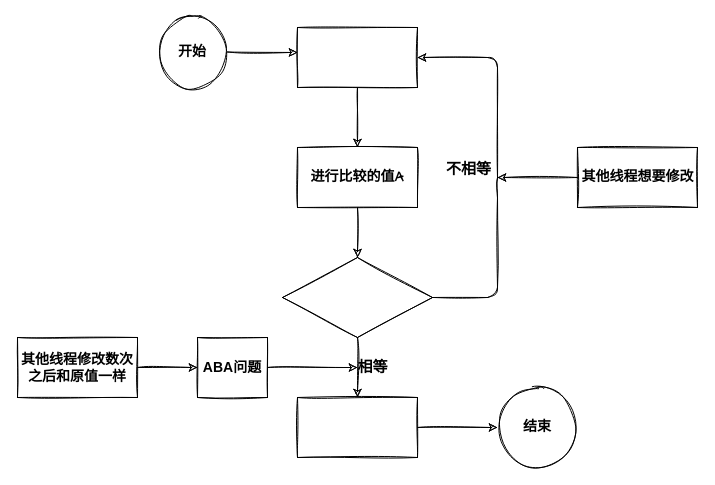
Image size: 715x485. Some labels were removed from this diagram. Here are the shapes that lost their labels. From the top down, the centre of each, then its label:
point 357,57: 读取当前值V
point 357,297: 比较V和当前值A
point 357,427: 更新为新值B
